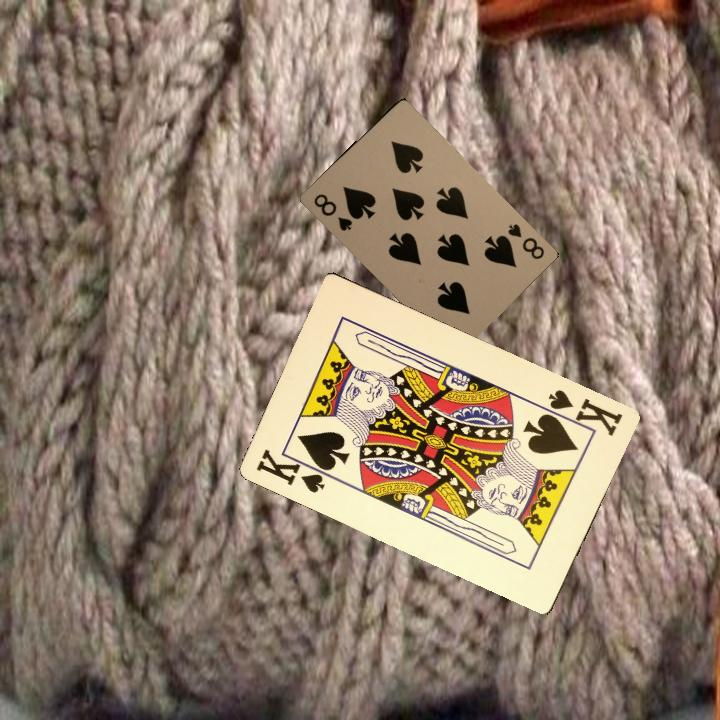8s: (310, 190, 355, 234), (504, 220, 547, 263)
Ks: (541, 385, 625, 439), (252, 445, 336, 496)
